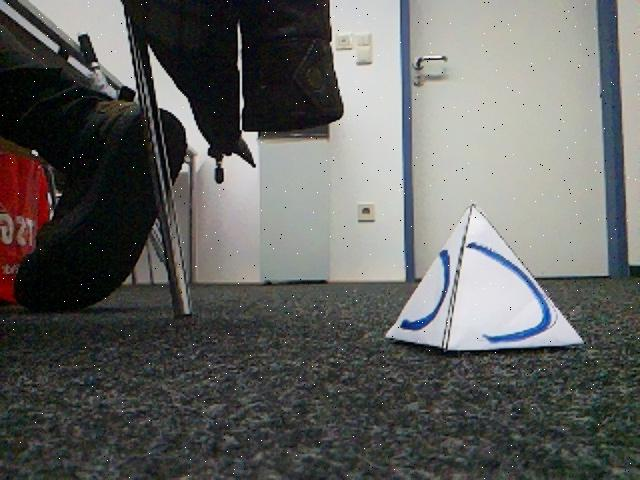C: (382, 206, 574, 356)
